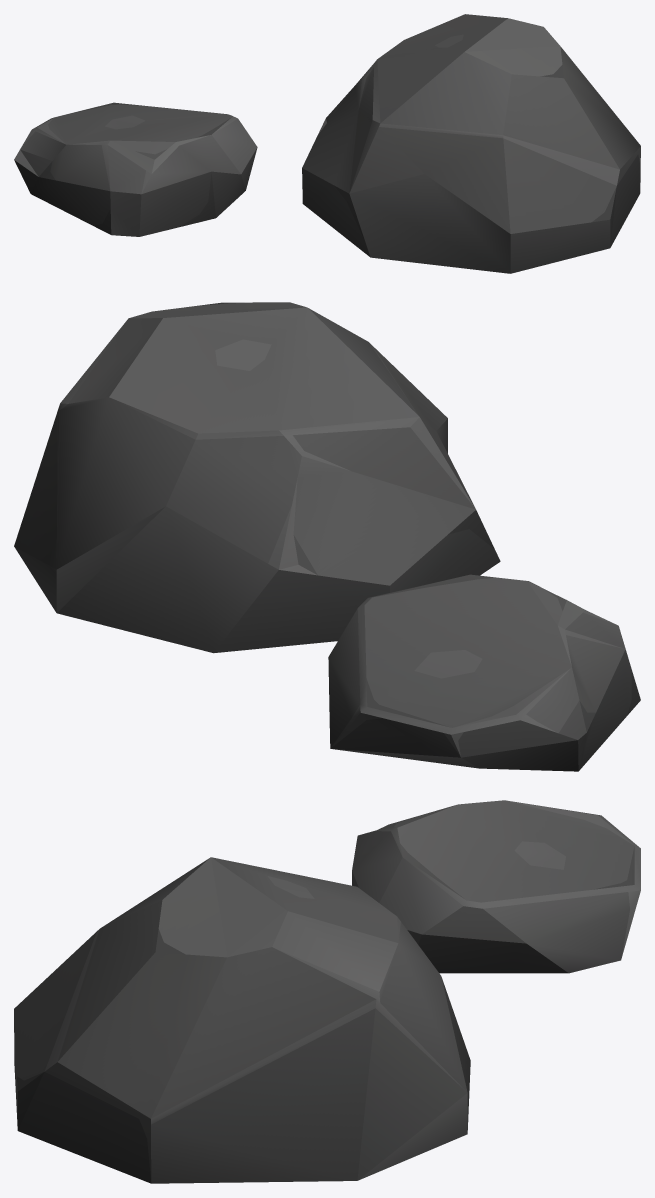
Rendered from TFP_Rocks_02B.gltf.
3 views of the same model, one above another, from view 1: azimuth 30°, elevation 25°; view 2: azimuth 150°, elevation 25°; view 3: azimuth 270°, elevation 25° (orthographic). The views are drawn at different scales.
Visible parts, largest first — view 1: TFP_Rocks_02B_LOD0; view 2: TFP_Rocks_02B_LOD0; view 3: TFP_Rocks_02B_LOD0.
Boxes of the visible parts, x1=… form: TFP_Rocks_02B_LOD0: x1=14, y1=14, x2=640, y2=273; TFP_Rocks_02B_LOD0: x1=14, y1=302, x2=640, y2=771; TFP_Rocks_02B_LOD0: x1=14, y1=800, x2=640, y2=1183.
Bounding box in the file's own units: 0.6148 × 0.2023 × 0.5143.
1 material, 1 textured.
